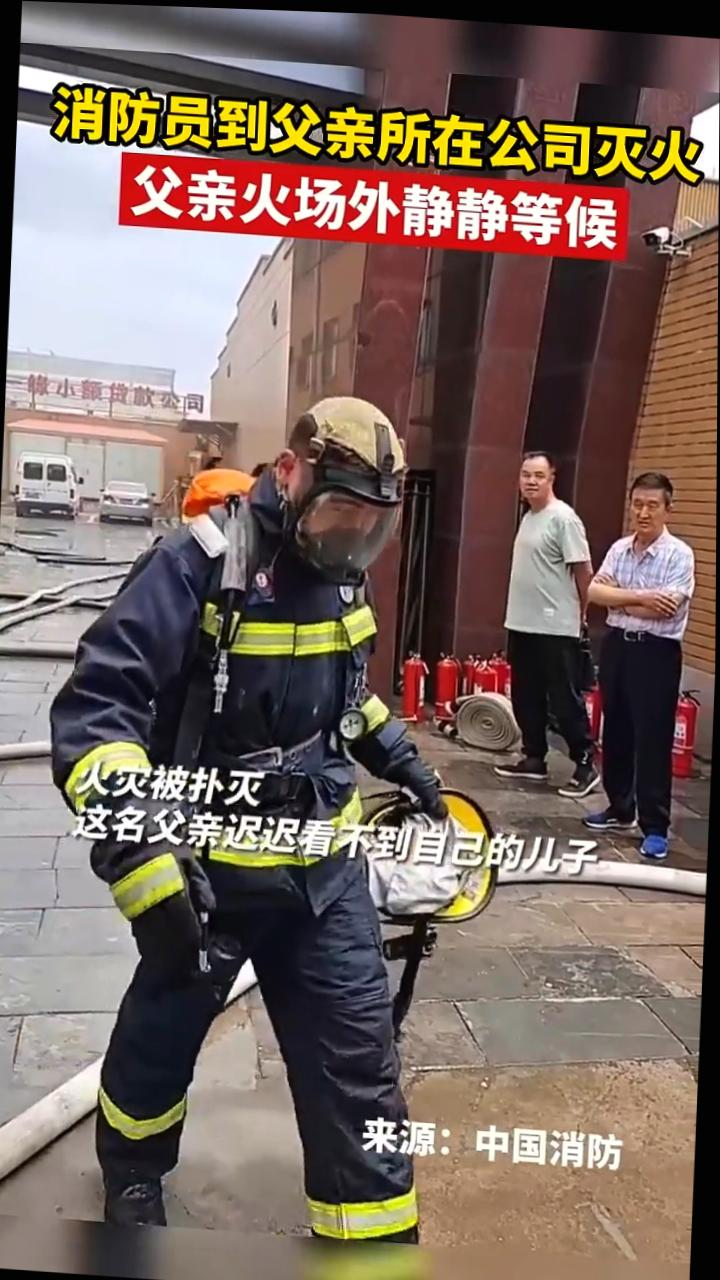FireExtinguisher: (672, 676, 704, 781), (393, 636, 432, 719), (470, 636, 513, 710), (433, 638, 465, 716)
